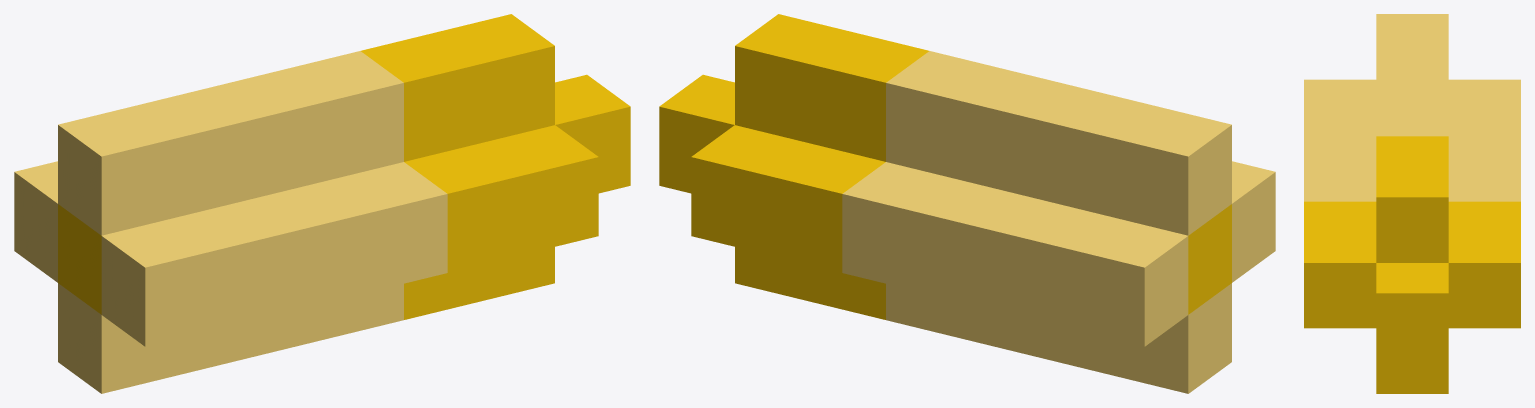
Rendered from Bullet.obj.
The picture shows the model from 3 angles, left to right: view 1: azimuth 30°, elevation 25°; view 2: azimuth 150°, elevation 25°; view 3: azimuth 270°, elevation 25°; orthographic projection. The views are drawn at different scales.
Size of the model in its own units: 0.7 by 0.3 by 0.3.
1 material, 1 textured.
